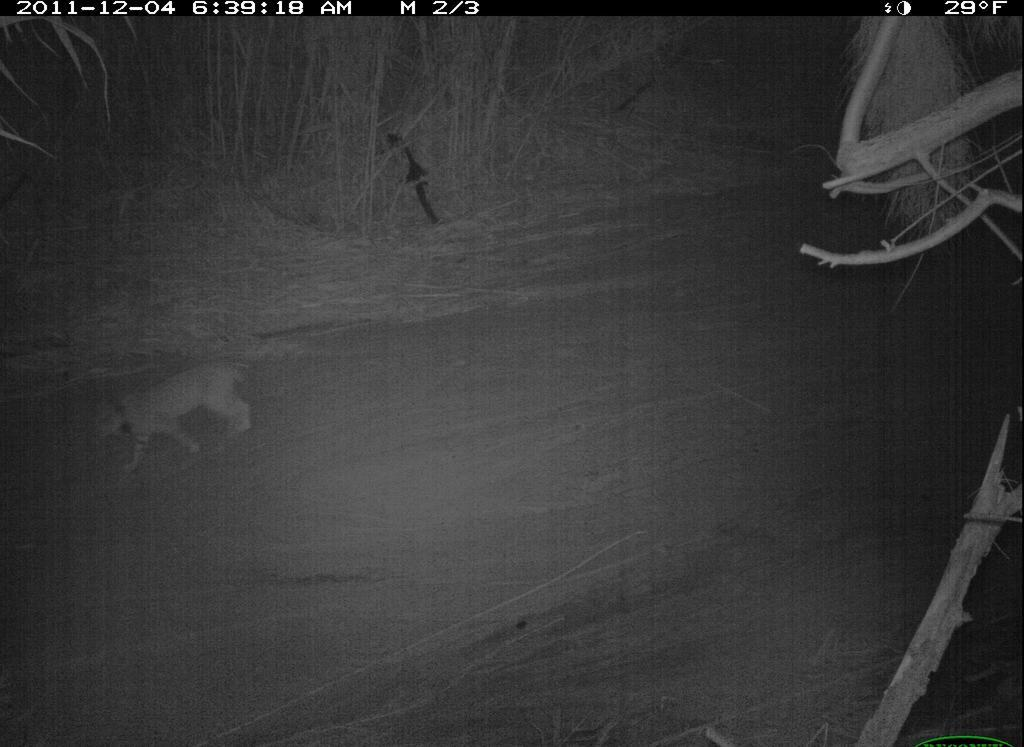bobcat: (88, 350, 276, 473)
